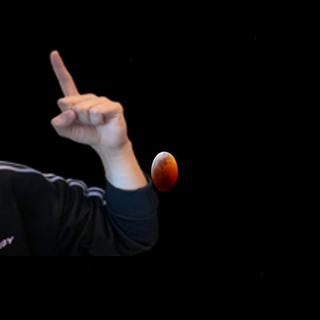IRRITATED: (42, 47, 131, 149)
